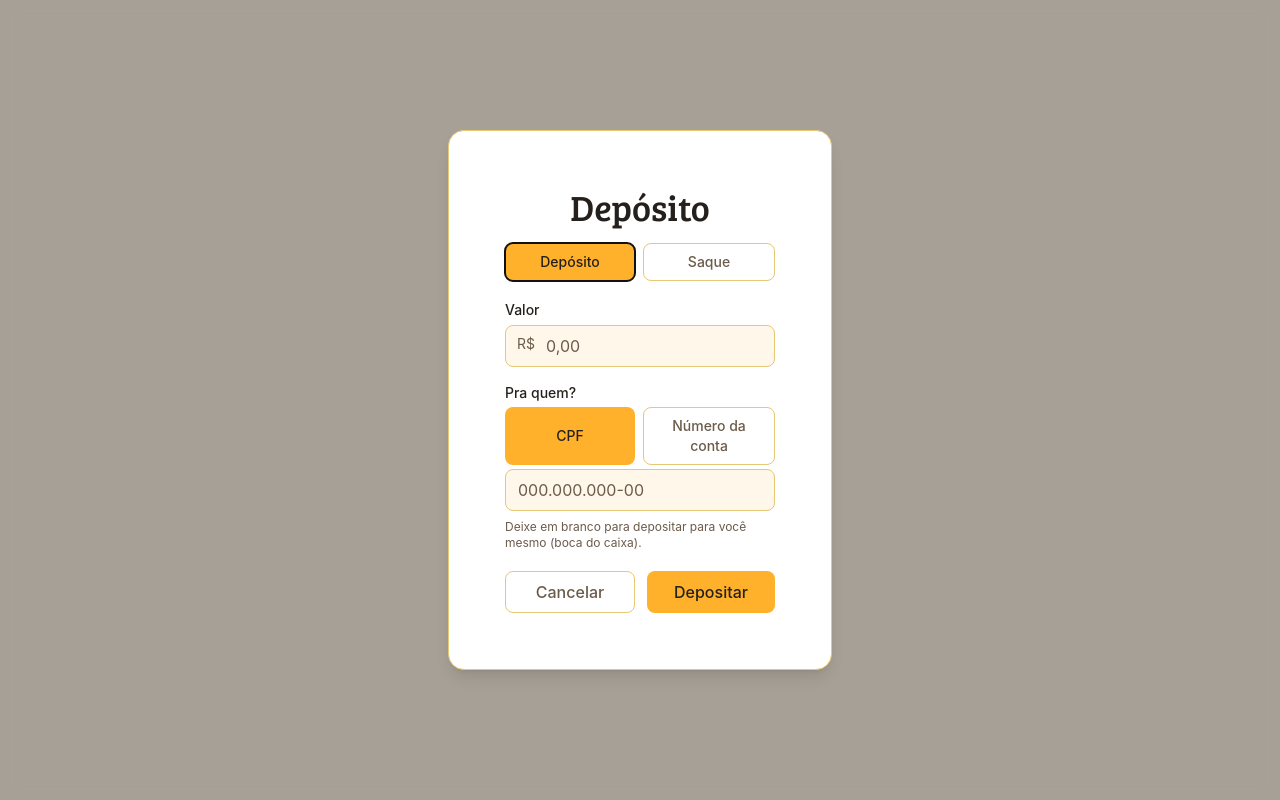
MovementModal › deposita sem contraparte (auto-depósito): não envia campos de contraparte
In the field with placeholder "0,00": (640,346) x1=505 y1=325 x2=775 y2=367, type "5050"
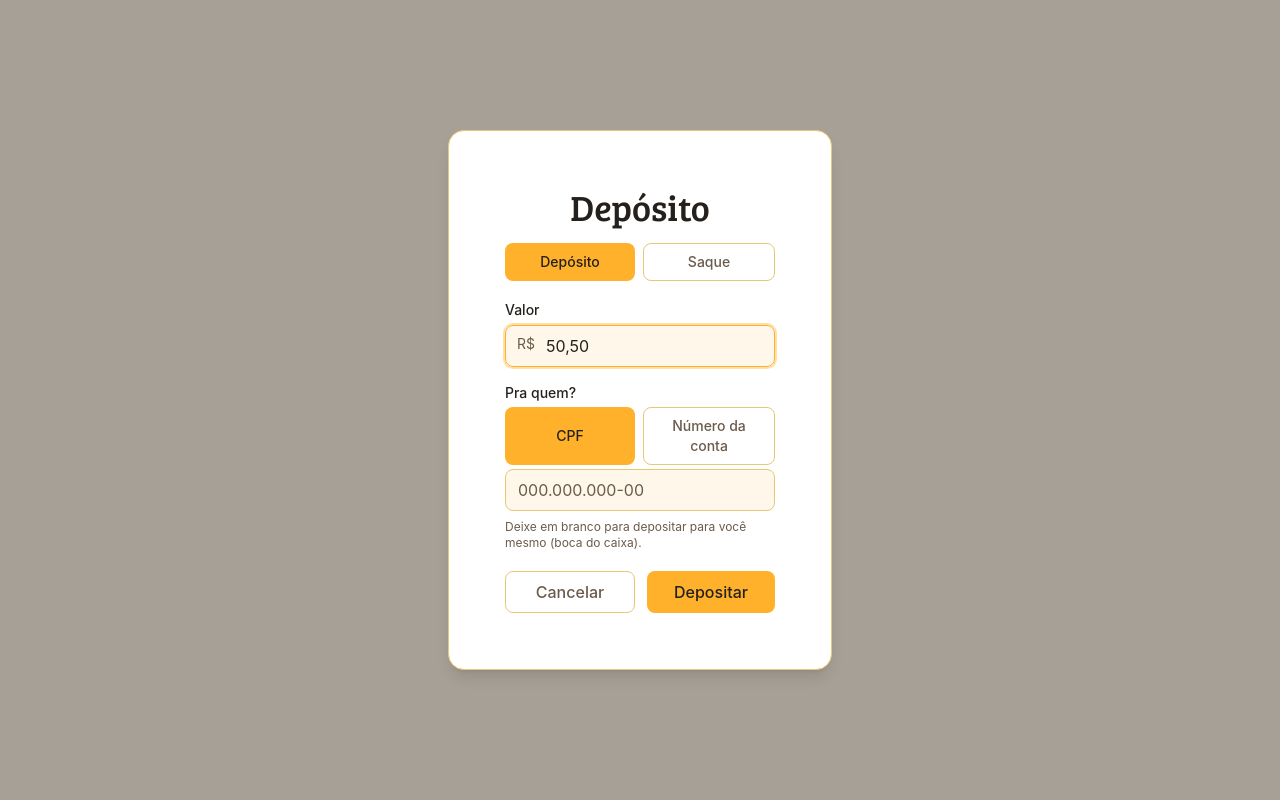
Click the button "Depositar": (711,592) x1=647 y1=571 x2=775 y2=613
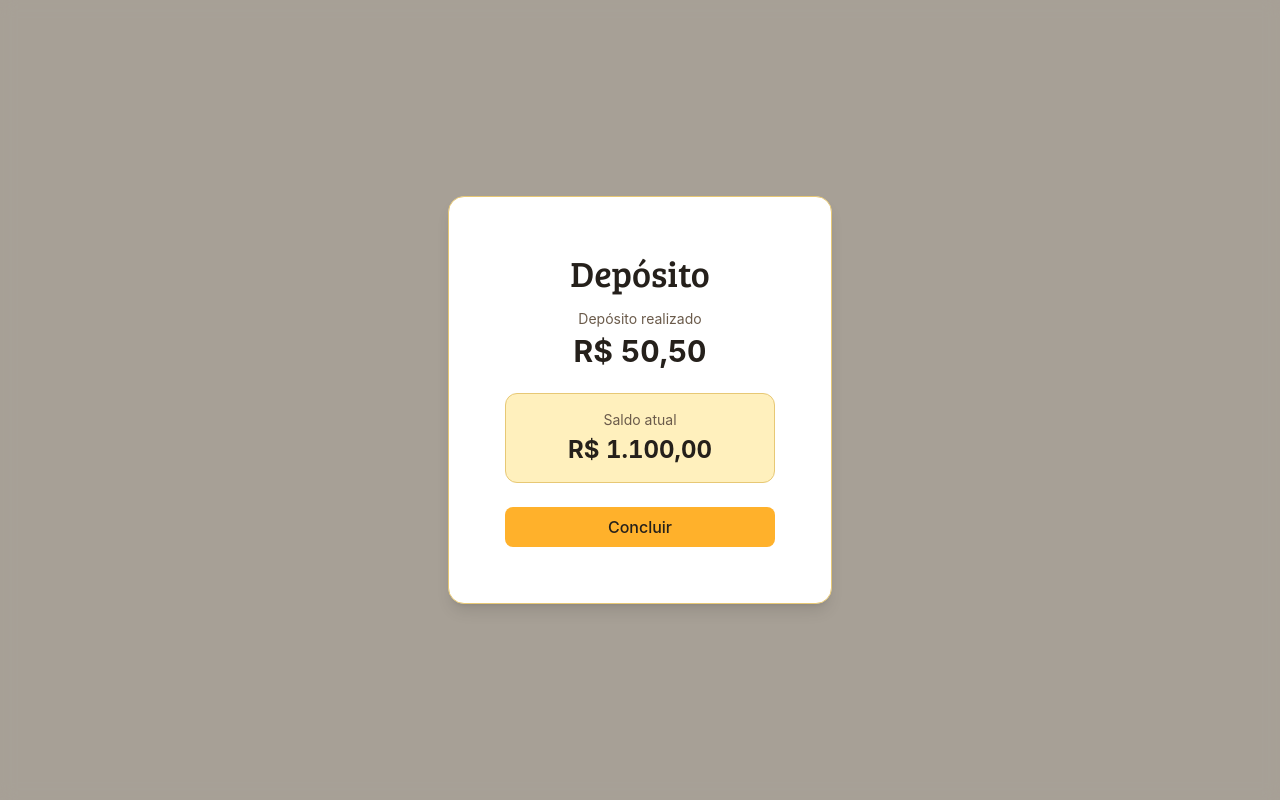
Expected: the text "Depósito realizado" is shown, x1=578 y1=310 x2=702 y2=327
